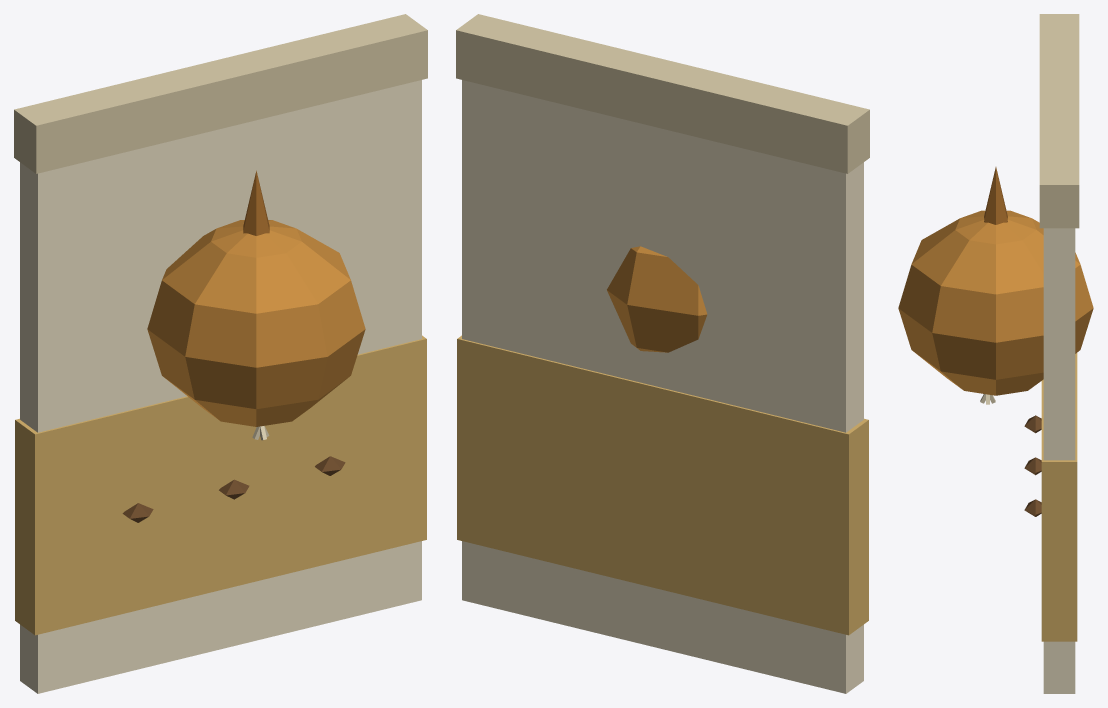
File: uprawa-nasiona-cebula.glb
3 renders of one model, left to right at view 1: azimuth 30°, elevation 25°; view 2: azimuth 150°, elevation 25°; view 3: azimuth 270°, elevation 25°, orthographic. The views are drawn at different scales.
Visible parts, largest first — view 1: uprawa-nasiona-cebula-0, uprawa-nasiona-cebula-1, uprawa-nasiona-cebula-3, uprawa-nasiona-cebula-2, uprawa-nasiona-cebula-4; view 2: uprawa-nasiona-cebula-0, uprawa-nasiona-cebula-1, uprawa-nasiona-cebula-2, uprawa-nasiona-cebula-3; view 3: uprawa-nasiona-cebula-3, uprawa-nasiona-cebula-0, uprawa-nasiona-cebula-2, uprawa-nasiona-cebula-1, uprawa-nasiona-cebula-4.
Boxes of the visible parts, x1,y1,x2,y2 form: uprawa-nasiona-cebula-0: (20,80,421,693); uprawa-nasiona-cebula-1: (15,335,426,635); uprawa-nasiona-cebula-3: (147,220,365,426); uprawa-nasiona-cebula-2: (14,14,427,173); uprawa-nasiona-cebula-4: (243,170,269,235); uprawa-nasiona-cebula-0: (462,80,863,693); uprawa-nasiona-cebula-1: (457,335,868,635); uprawa-nasiona-cebula-2: (456,14,869,173); uprawa-nasiona-cebula-3: (607,246,707,352); uprawa-nasiona-cebula-3: (898,210,1093,395); uprawa-nasiona-cebula-0: (1043,228,1075,693); uprawa-nasiona-cebula-2: (1039,14,1079,228); uprawa-nasiona-cebula-1: (1041,353,1077,641); uprawa-nasiona-cebula-4: (984,167,1007,224).
Bounding box in the file's own units: 1.02 × 1.42 × 0.4924.
